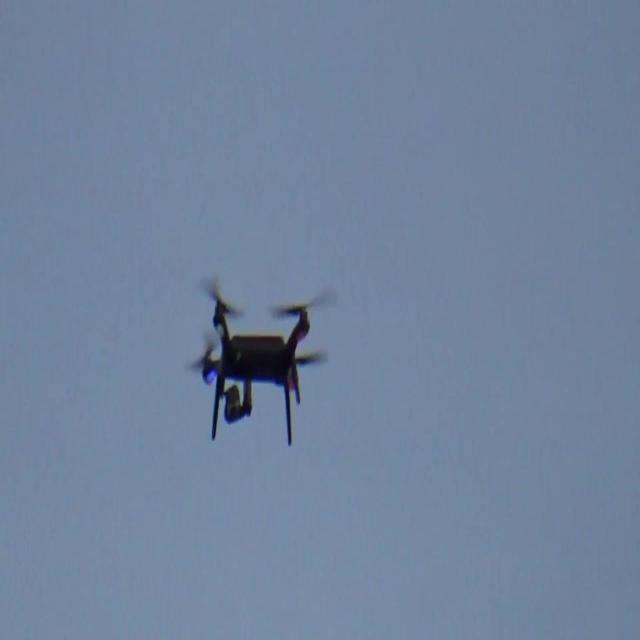UAV: (187, 274, 337, 447)
